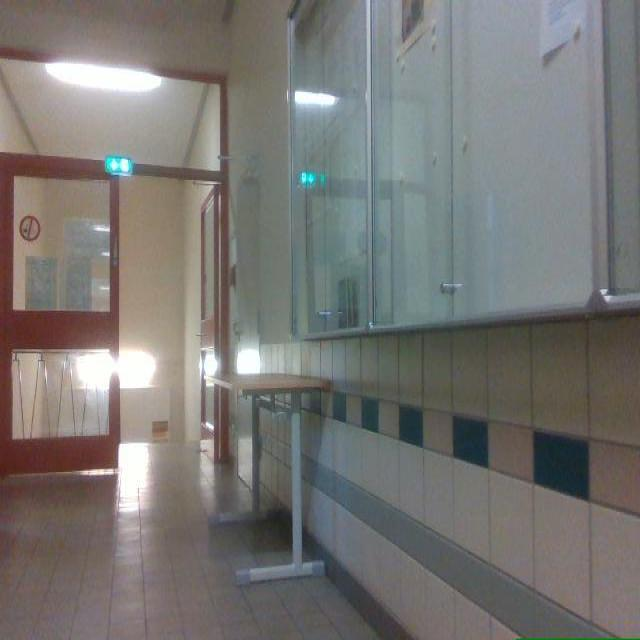objects: (212, 373, 329, 583)
